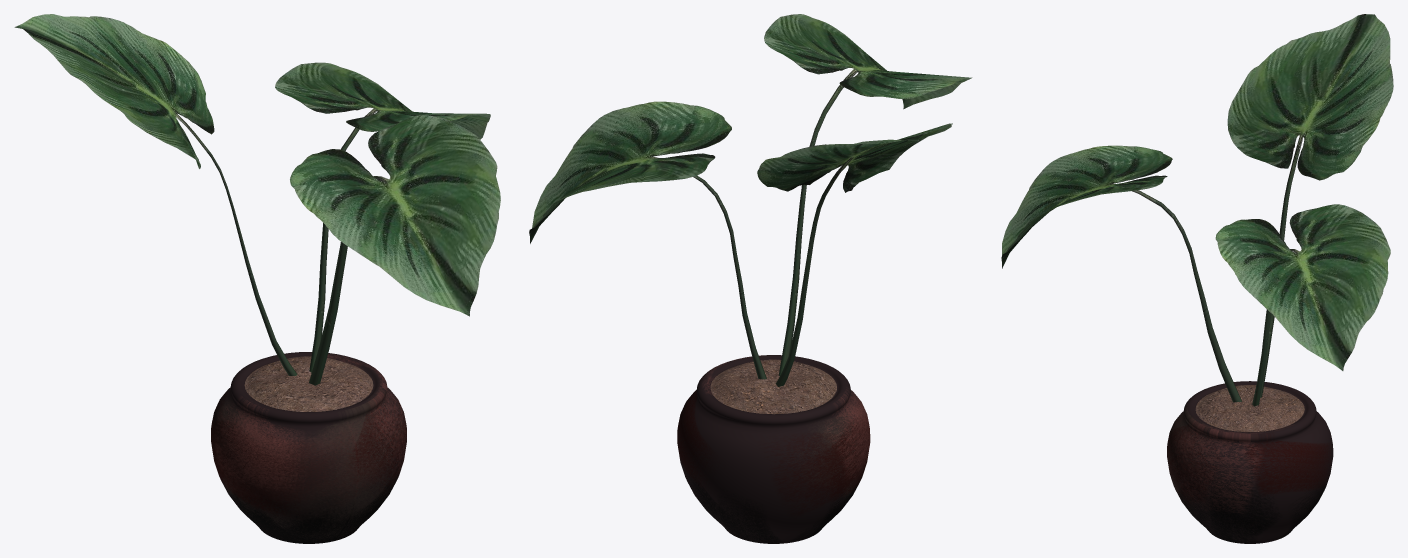
Rendered from plant_pot.glb.
3 renders of one model, left to right at view 1: azimuth 30°, elevation 25°; view 2: azimuth 150°, elevation 25°; view 3: azimuth 270°, elevation 25°, orthographic. The views are drawn at different scales.
Visible parts, largest first — view 1: Plane_plant_0, Cylinder_FlowerPot_0, Cylinder_Soil_0; view 2: Plane_plant_0, Cylinder_FlowerPot_0, Cylinder_Soil_0; view 3: Plane_plant_0, Cylinder_FlowerPot_0, Cylinder_Soil_0.
Part boxes in pixels (<box>): Plane_plant_0: <box>14,14,500,385</box>; Cylinder_FlowerPot_0: <box>211,352,406,543</box>; Cylinder_Soil_0: <box>244,356,373,411</box>; Plane_plant_0: <box>529,14,972,386</box>; Cylinder_FlowerPot_0: <box>677,355,870,543</box>; Cylinder_Soil_0: <box>710,359,836,414</box>; Plane_plant_0: <box>1001,14,1393,406</box>; Cylinder_FlowerPot_0: <box>1167,381,1333,543</box>; Cylinder_Soil_0: <box>1195,385,1304,431</box>.
Bounding box in the file's own units: 1.25 × 1.4 × 1.18.
Materials: 3 (3 with a texture image).
